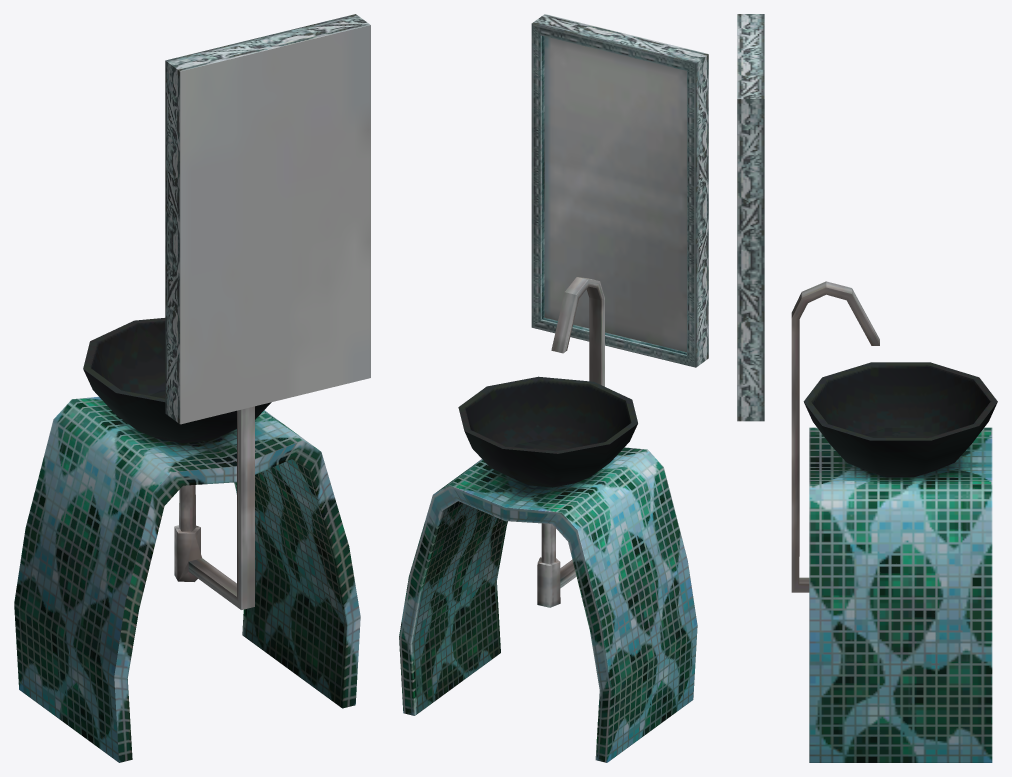
The model's file is furni_0200103_03.FBX.
3 renders of one model, left to right at view 1: azimuth 30°, elevation 25°; view 2: azimuth 150°, elevation 25°; view 3: azimuth 270°, elevation 25°, orthographic. The views are drawn at different scales.
Visible parts, largest first — view 1: furni_0200103_03; view 2: furni_0200103_03; view 3: furni_0200103_03.
Part boxes in pixels (box(x1,y1,x2,y2)): furni_0200103_03: box(14, 14, 370, 762); furni_0200103_03: box(399, 14, 708, 762); furni_0200103_03: box(737, 14, 997, 762).
Bounding box in the file's own units: 61.5 × 171 × 61.73.
